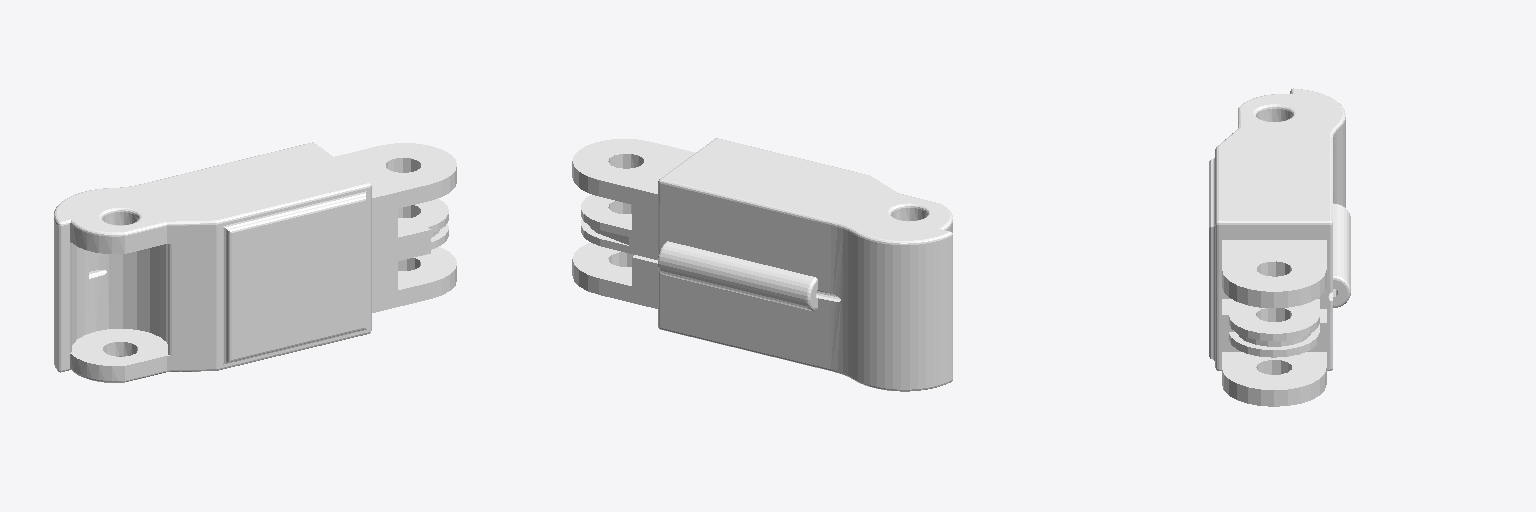
File: gripper_right_proximal_link.obj
3 renders of one model, left to right at view 1: azimuth 30°, elevation 25°; view 2: azimuth 150°, elevation 25°; view 3: azimuth 270°, elevation 25°, orthographic.
Visible parts, largest first — view 1: shape0.008; view 2: shape0.008; view 3: shape0.008.
Boxes of the visible parts, box(x1,y1,x2,y2) form: shape0.008: box(54, 142, 456, 382); shape0.008: box(572, 138, 952, 391); shape0.008: box(1209, 88, 1350, 406).
Bounding box in the file's own units: 0.0677 × 0.0254 × 0.0217.